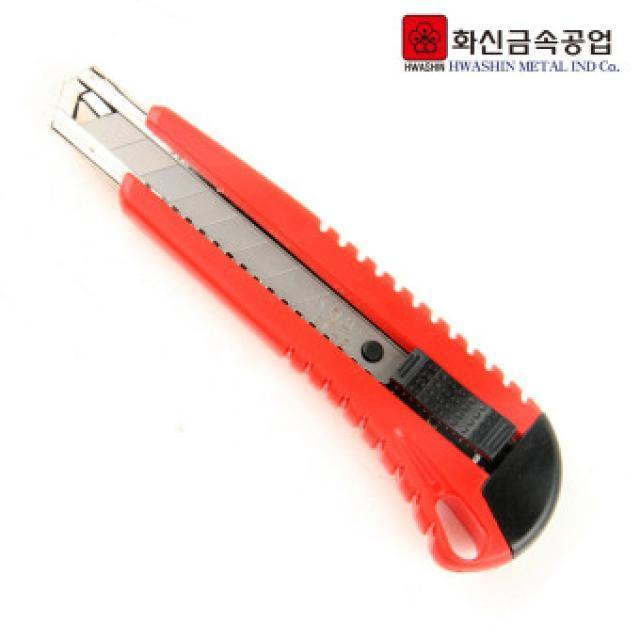cutter: (46, 50, 565, 575)
